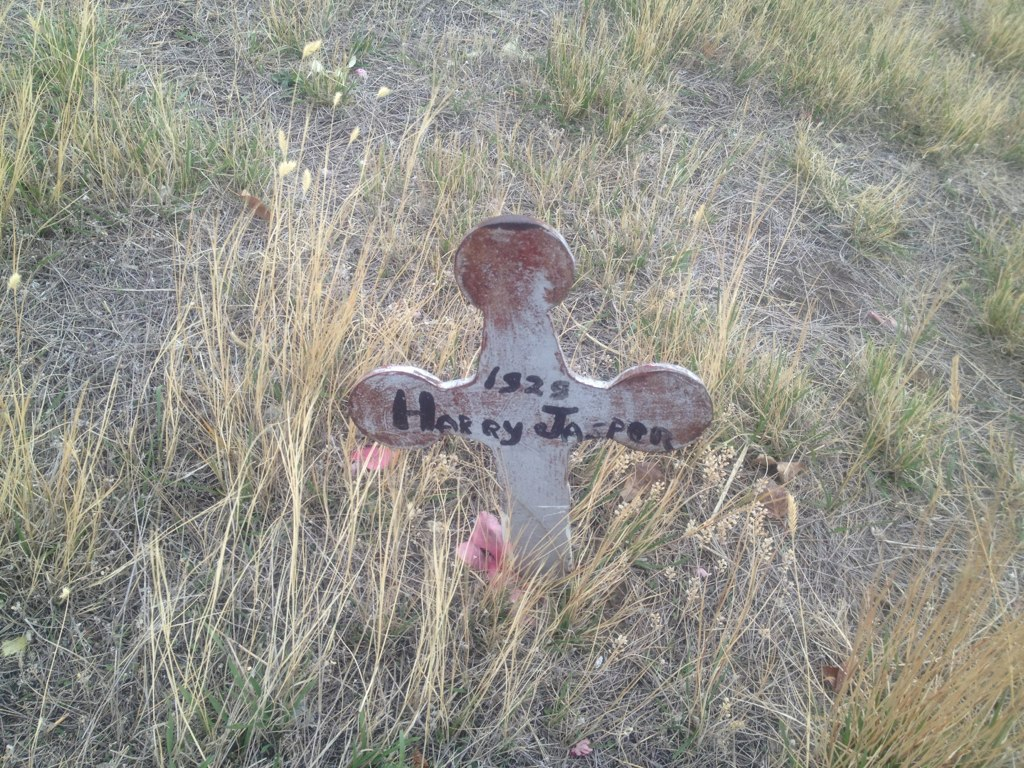upright: (337, 213, 715, 583)
